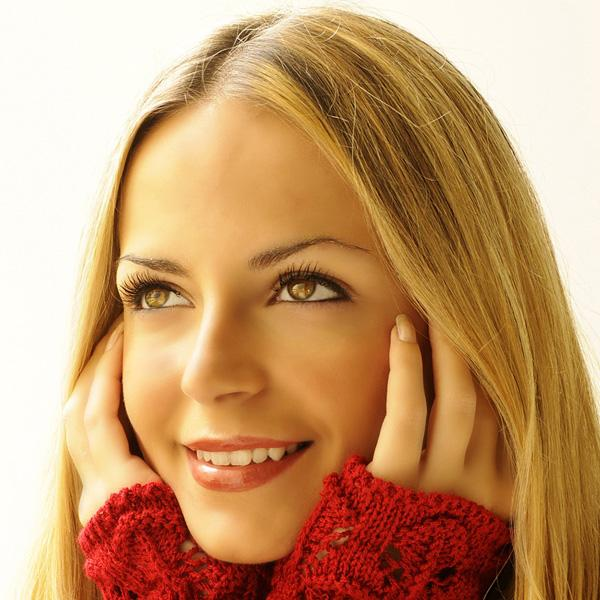Eyes: (252, 262, 360, 324), (114, 268, 205, 325)
